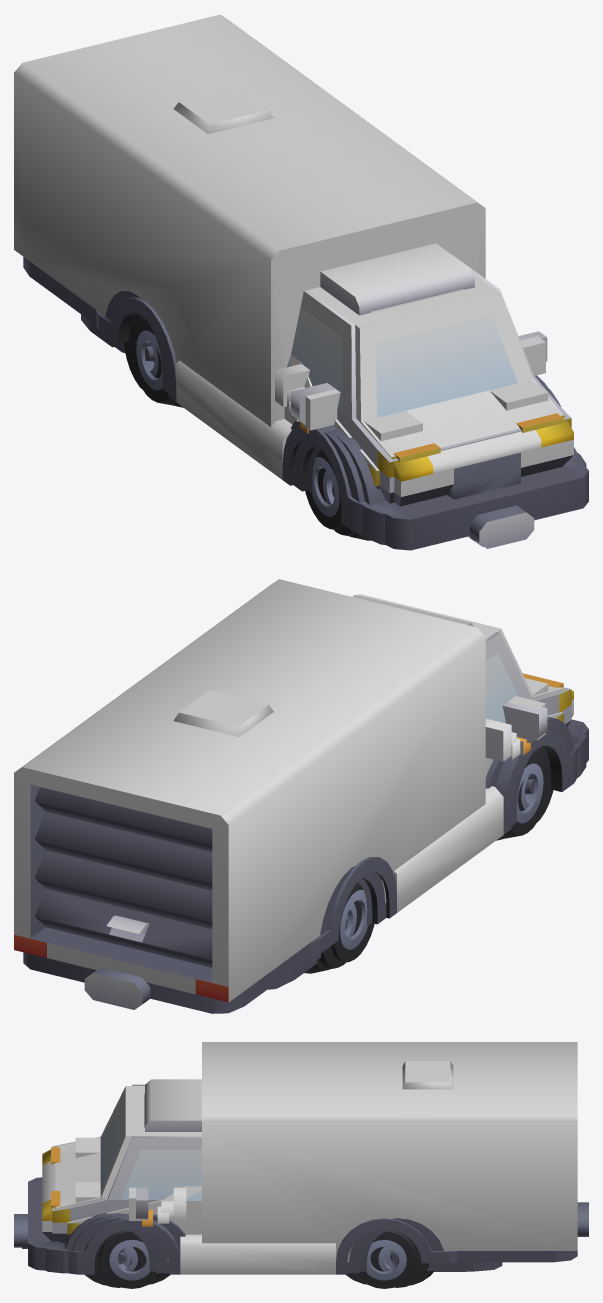
The model's file is kenney.glb.
3 renders of one model, top to bottom at view 1: azimuth 30°, elevation 25°; view 2: azimuth 150°, elevation 25°; view 3: azimuth 270°, elevation 25°, orthographic. The views are drawn at different scales.
Visible parts, largest first — view 1: Body (×5), Wheel_RR (×2), Wheel_FR; view 2: Body (×4), Wheel_FR (×2), Wheel_RR (×2); view 3: Body (×5), Wheel_RL (×2), Wheel_FL (×2).
Boxes of the visible parts, x1,y1,x2,y2 form: Body (×5): (14, 14, 588, 550); Wheel_RR (×2): (124, 313, 176, 405); Wheel_FR: (305, 449, 343, 529); Body (×4): (14, 579, 588, 1013); Wheel_FR (×2): (503, 746, 553, 838); Wheel_RR (×2): (319, 882, 374, 968); Body (×5): (14, 1042, 588, 1274); Wheel_RL (×2): (355, 1230, 428, 1288); Wheel_FL (×2): (92, 1230, 161, 1288).
Size of the model in its own units: 2.02 by 1.98 by 5.55.
